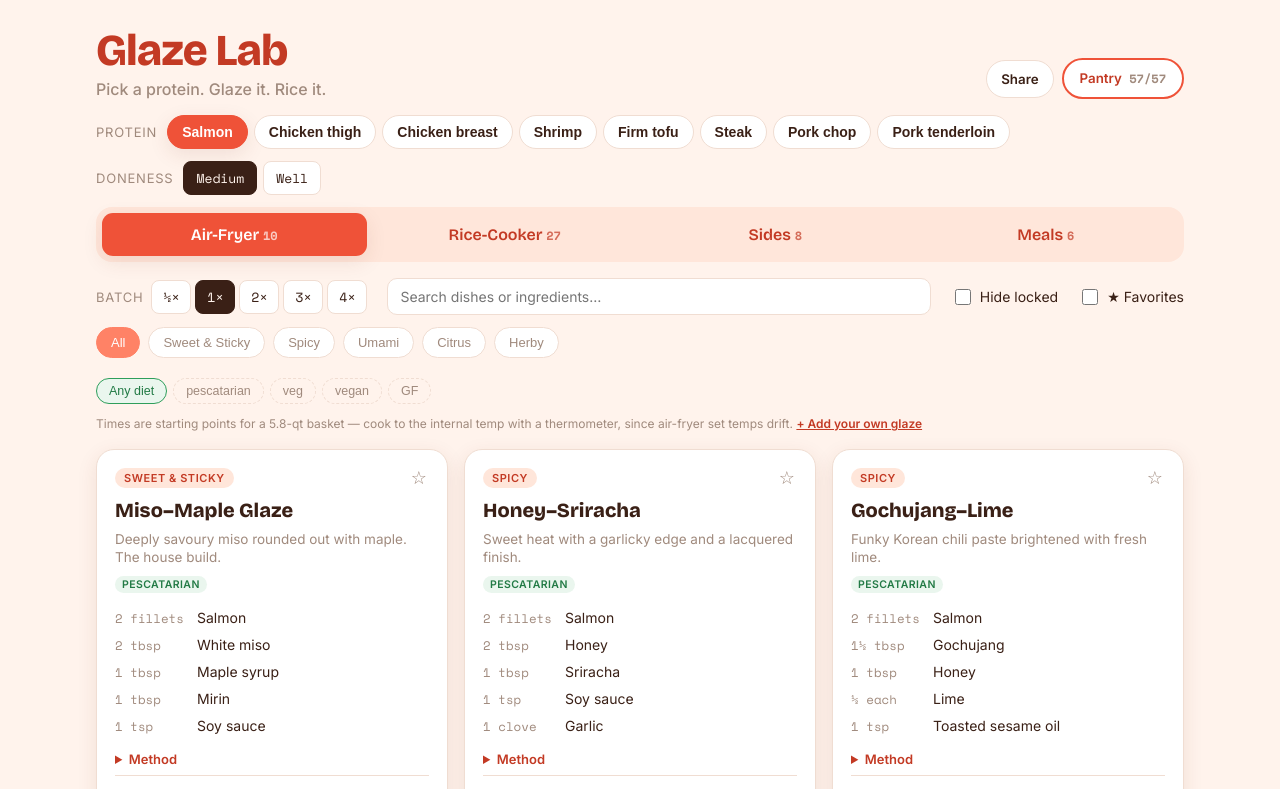
Test case: Glaze Lab app › swaps the card set when the cooking mode is toggled
This screenshot has width=1280, height=789.
Expected: the heading "Miso–Maple Glaze" is shown, [115,498,293,522]
Click the tab "Rice-Cooker 27".
click(505, 234)  # box [372,213,637,256]
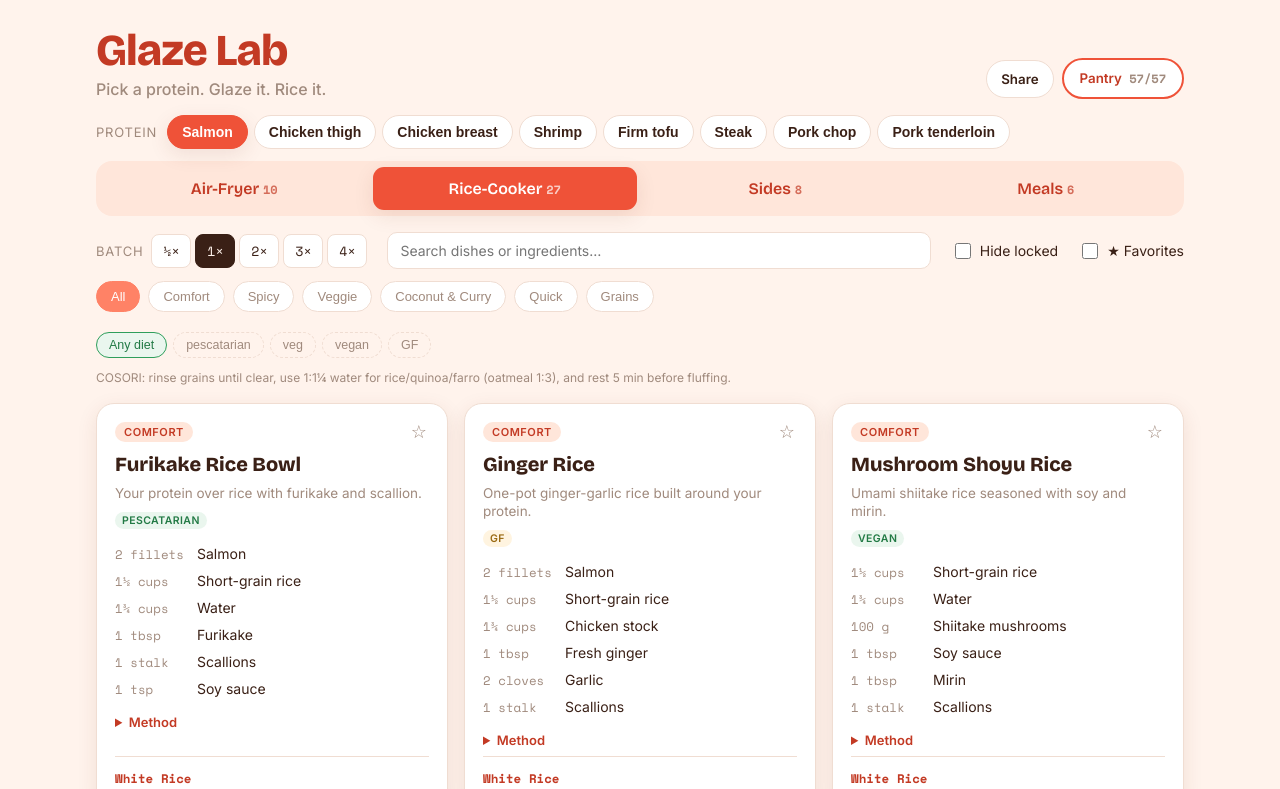
Expected: the heading "Furikake Rice Bowl" is shown, [115,452,301,476]
Expected: the heading "Miso–Maple Glaze" is gone
